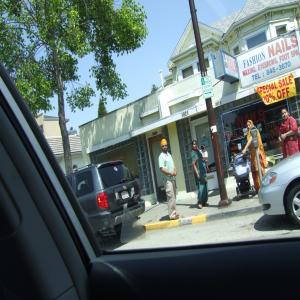Vehicle-registration-plate: (124, 191, 131, 200)
